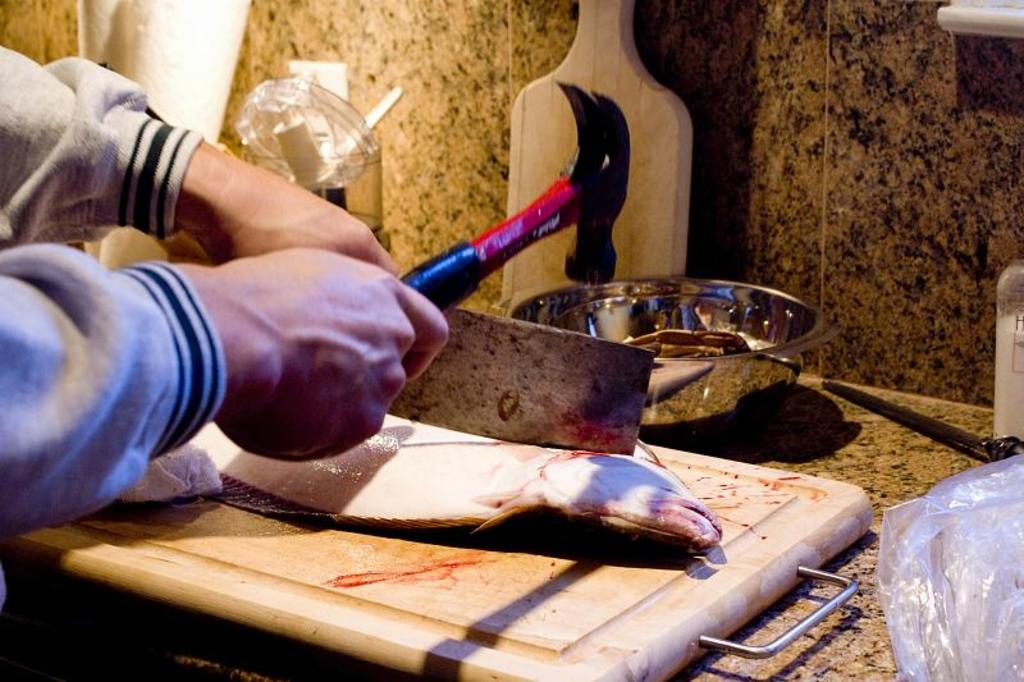Human_hand: (165, 233, 429, 426), (196, 165, 402, 274)
